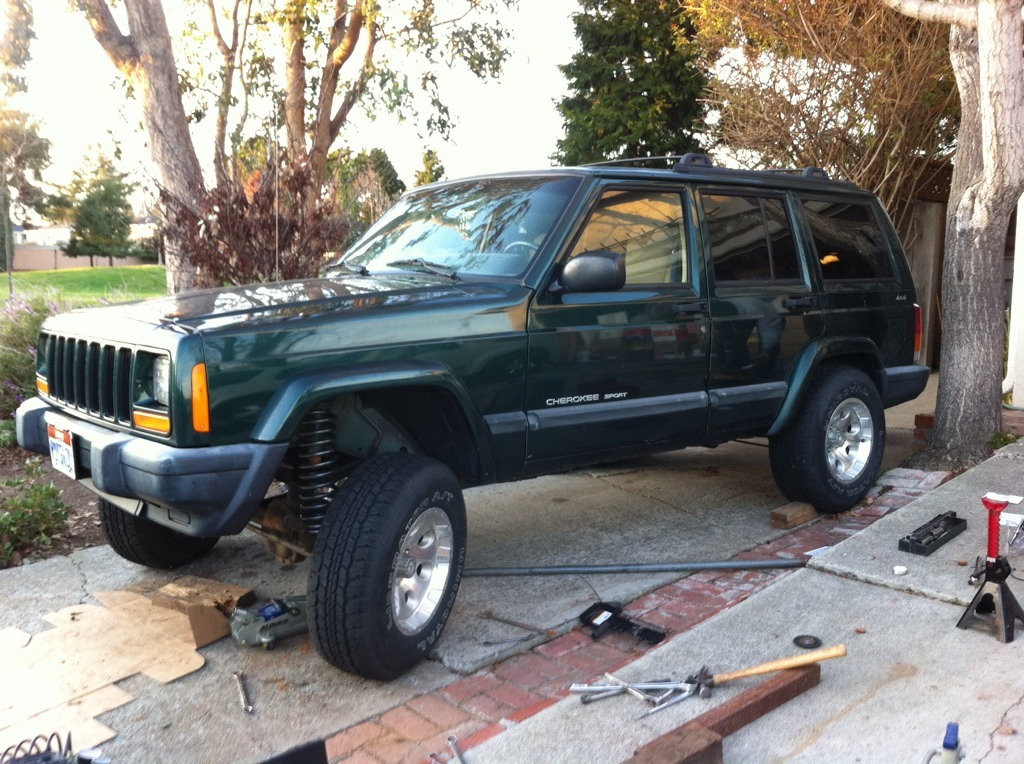Tree: (661, 0, 1024, 469), (60, 0, 530, 289), (550, 0, 730, 169), (55, 150, 142, 270), (0, 0, 49, 188)
